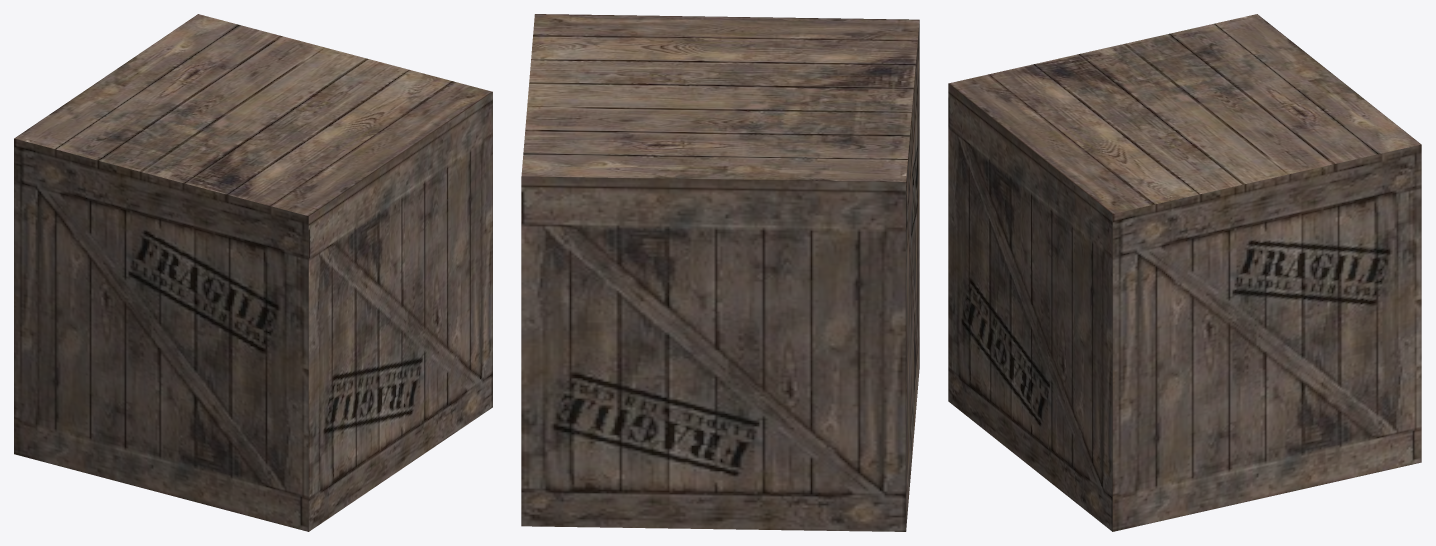
File: Wooden_box_v1_LD1square (2).glb
The picture shows the model from 3 angles, left to right: view 1: azimuth 30°, elevation 25°; view 2: azimuth 150°, elevation 25°; view 3: azimuth 270°, elevation 25°; orthographic projection. The views are drawn at different scales.
Parts seen in each view (by area): view 1: Wooden_box_v1_LD1square (2); view 2: Wooden_box_v1_LD1square (2); view 3: Wooden_box_v1_LD1square (2).
Boxes of the visible parts, x1=… form: Wooden_box_v1_LD1square (2): x1=14, y1=14, x2=492, y2=531; Wooden_box_v1_LD1square (2): x1=521, y1=14, x2=919, y2=531; Wooden_box_v1_LD1square (2): x1=948, y1=14, x2=1421, y2=531.
Size of the model in its own units: 1.1 by 0.8124 by 1.1.
1 material, 1 textured.
